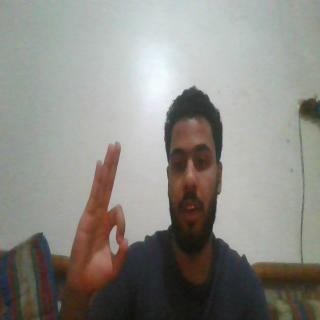Space: (70, 134, 134, 293)
